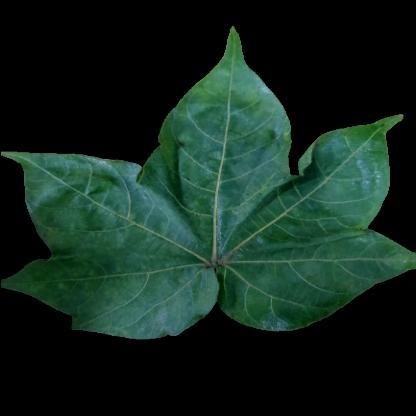curl_stage1: (199, 72, 269, 112), (116, 211, 164, 243)
healthy: (57, 249, 193, 321), (252, 231, 324, 309), (31, 178, 115, 244), (170, 182, 251, 242), (259, 168, 336, 226), (180, 119, 254, 171), (324, 235, 386, 279), (336, 165, 386, 201)
